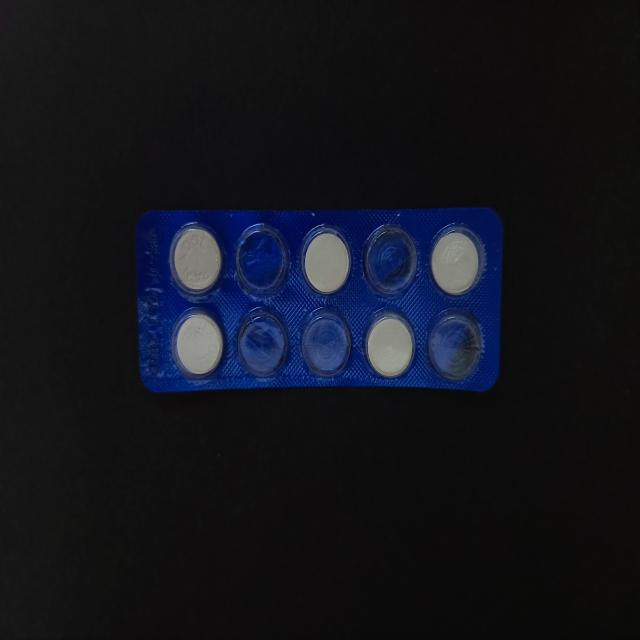defect: (361, 221, 420, 301), (234, 303, 293, 381), (234, 221, 291, 301), (426, 304, 482, 382), (298, 304, 355, 380)
